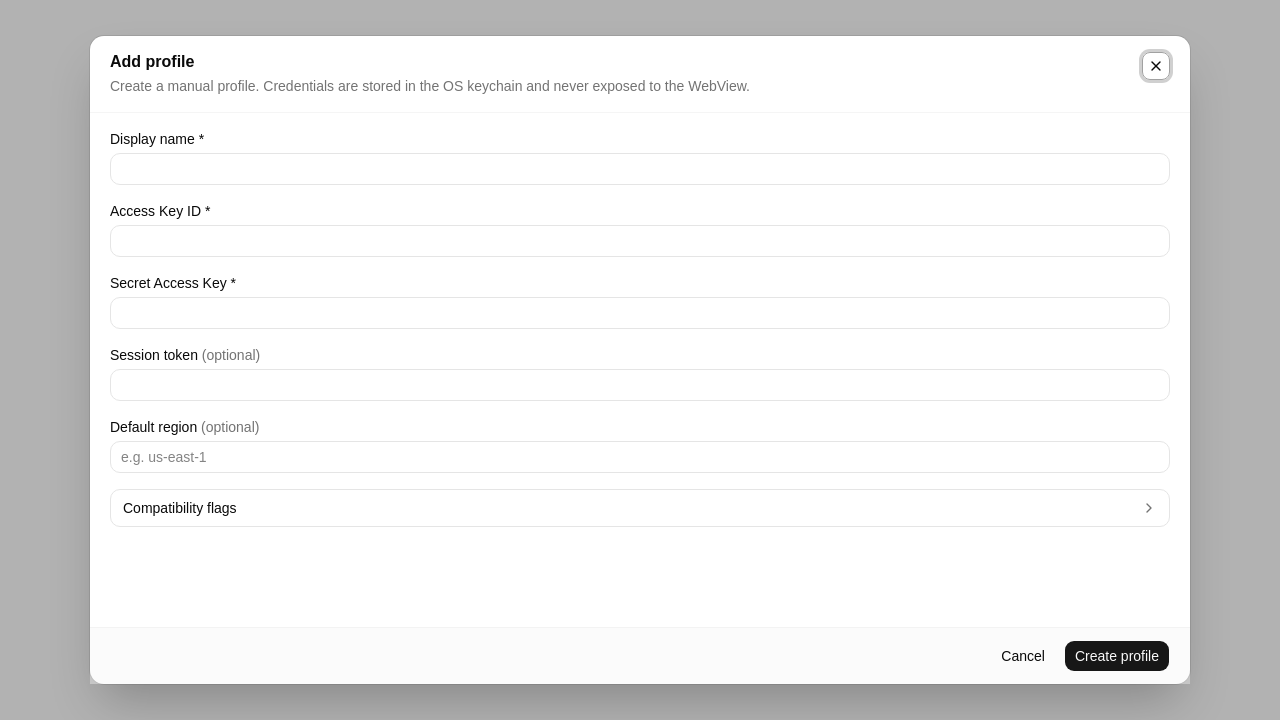
Test case: ProfileEditor — create mode › shows validation errors when required fields are empty
The width and height of the screenshot is (1280, 720).
Click the button "Create profile".
click(1117, 656)  # box [1064,640,1170,672]
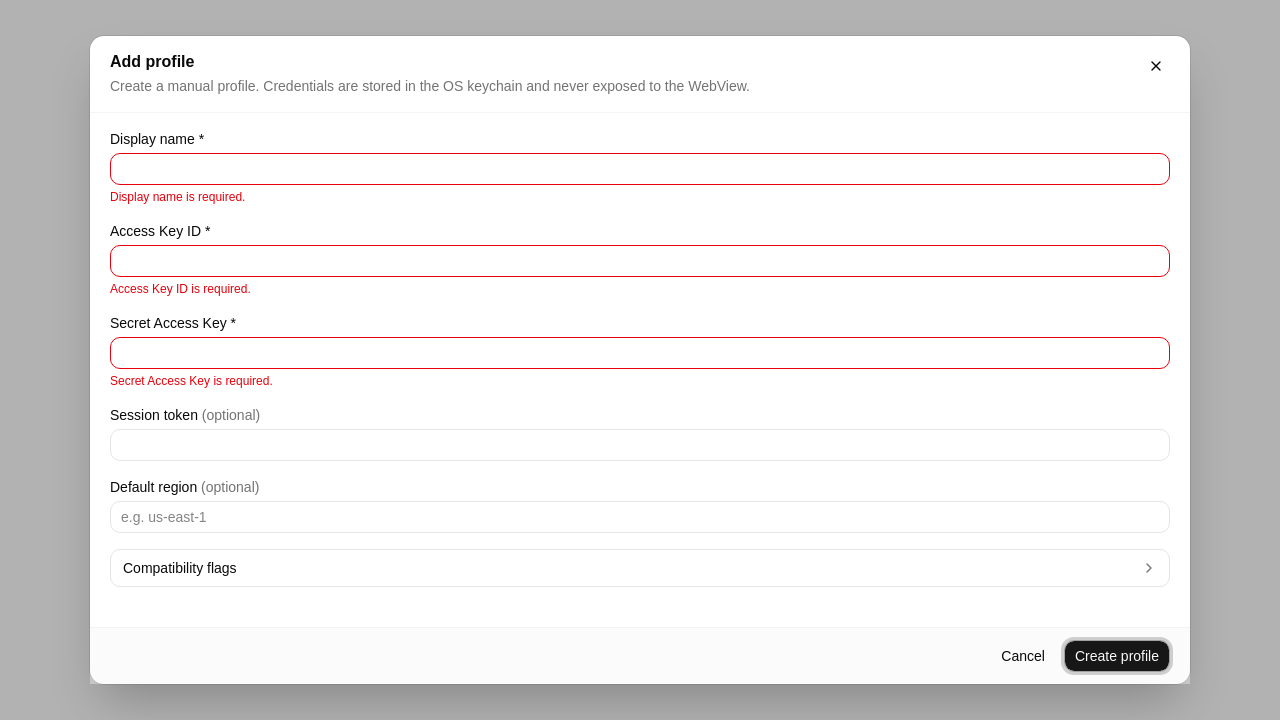
Now the text "Display name is required." is shown, box [110,190,245,204]
Now the text "Access Key ID is required." is shown, box [110,282,251,296]
Now the text "Secret Access Key is required." is shown, box [110,374,273,388]
